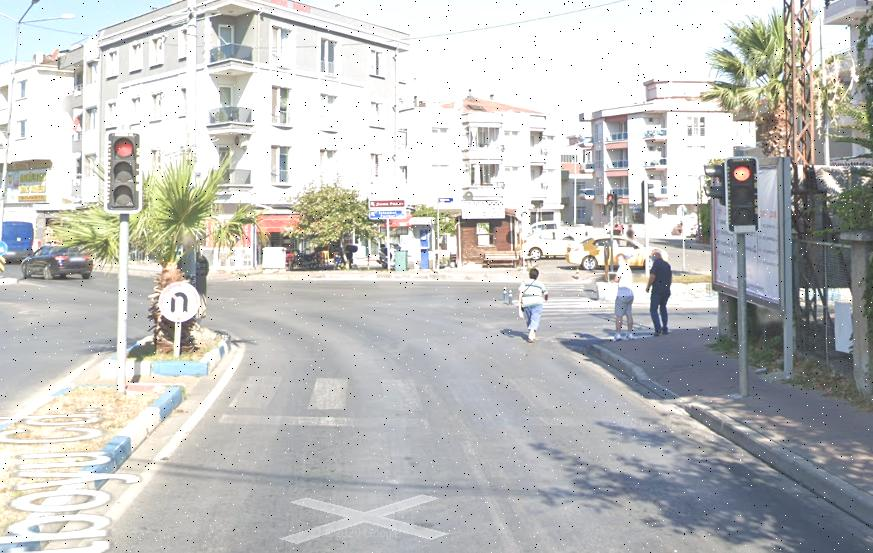redlight: (108, 130, 138, 212), (728, 157, 759, 235)
